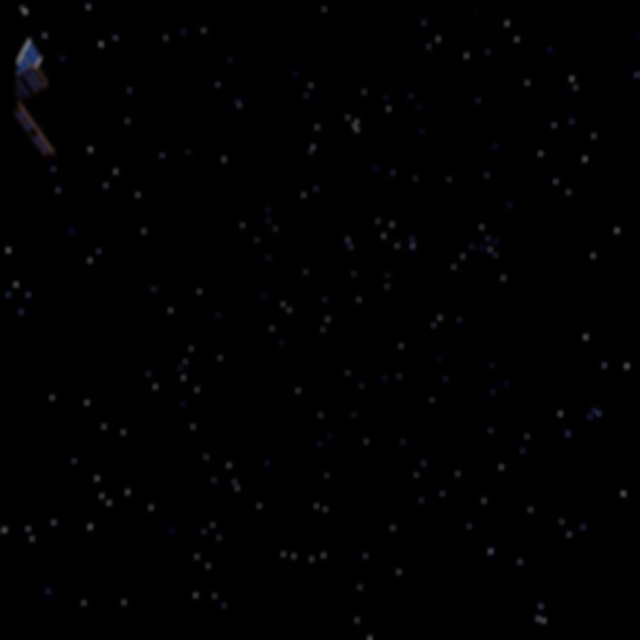satellite: (10, 24, 66, 167)
